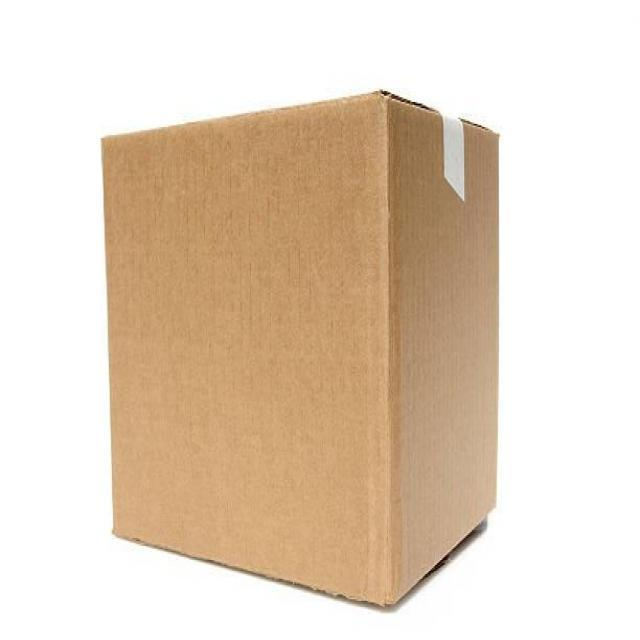box: (93, 84, 514, 608)
